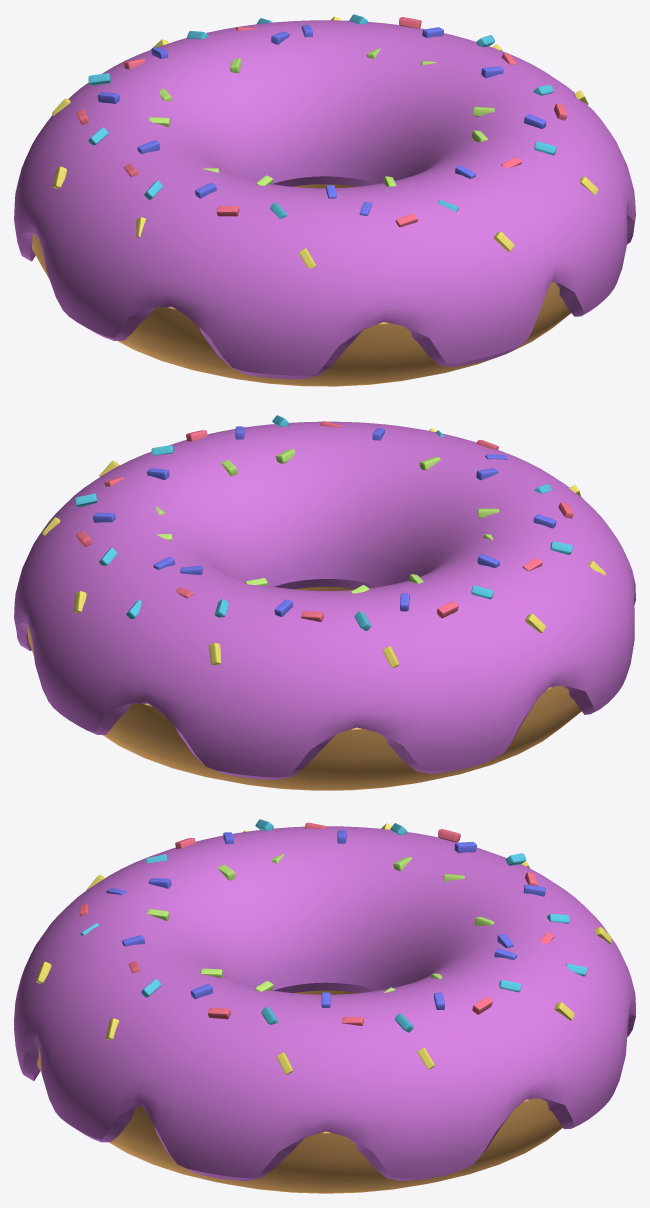
The model's file is Donut_Pink.fbx.
3 views of the same model, one above another, from view 1: azimuth 30°, elevation 25°; view 2: azimuth 150°, elevation 25°; view 3: azimuth 270°, elevation 25° (orthographic).
Visible parts, largest first — view 1: Cupcake; view 2: Cupcake; view 3: Cupcake.
Boxes of the visible parts, x1,y1,x2,y2 form: Cupcake: [14, 14, 635, 386]; Cupcake: [14, 415, 635, 790]; Cupcake: [14, 819, 635, 1193].
Size of the model in its own units: 163 by 54.49 by 164.
